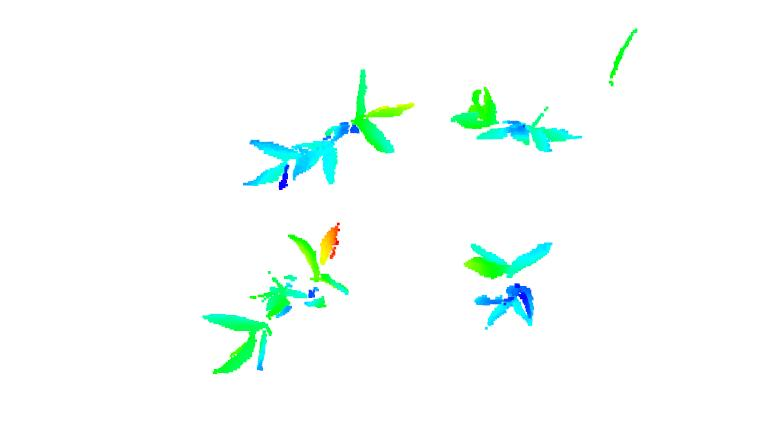mungbean: (200, 220, 361, 379), (240, 62, 420, 197), (445, 84, 587, 157), (463, 231, 553, 331)
